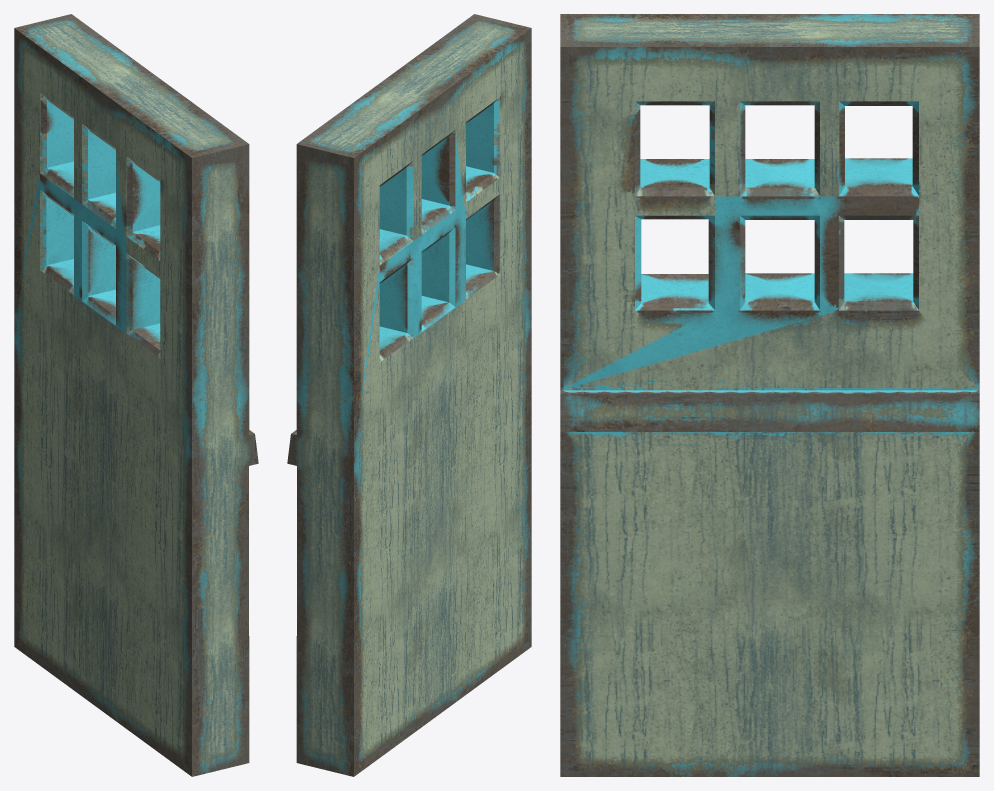
The model's file is Door_01.fbx.
3 views of the same model, side by side, from view 1: azimuth 30°, elevation 25°; view 2: azimuth 150°, elevation 25°; view 3: azimuth 270°, elevation 25° (orthographic). The views are drawn at different scales.
Parts seen in each view (by area): view 1: pCube13; view 2: pCube13; view 3: pCube13.
Part boxes in pixels (x1,y1,x2,y2): pCube13: (14, 14, 258, 776); pCube13: (287, 14, 531, 776); pCube13: (560, 14, 979, 776).
Size of the model in its own units: 0.7282 by 6.46 by 3.37.
